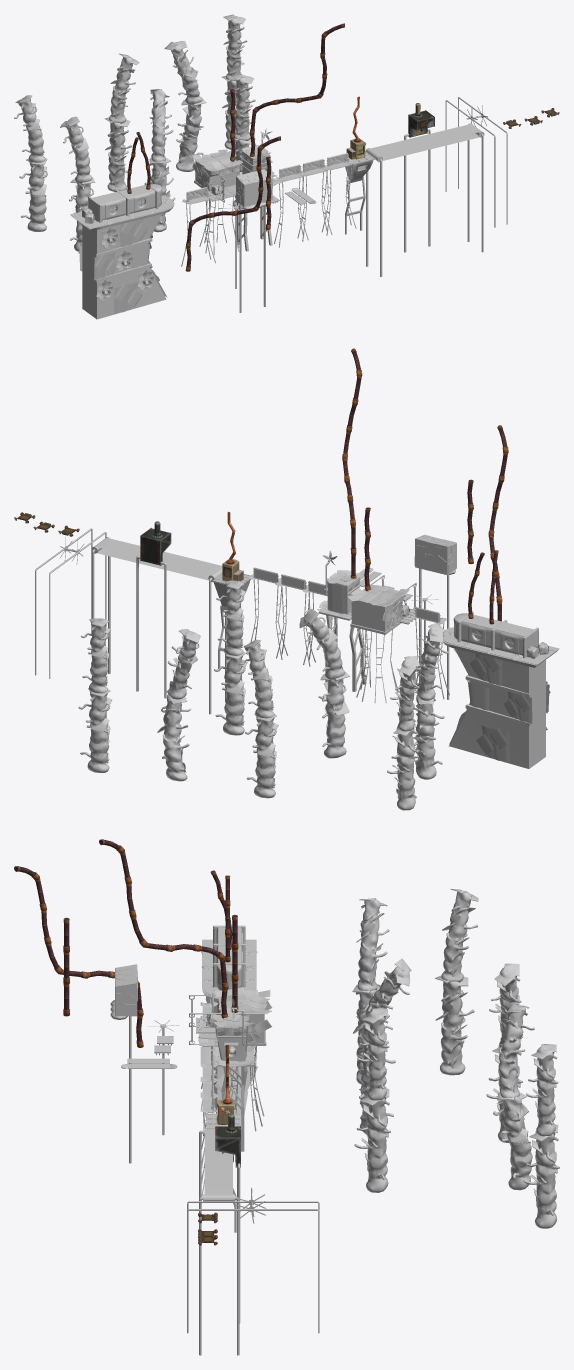
The model's file is cenarioteste1.0.fbx.
3 views of the same model, one above another, from view 1: azimuth 30°, elevation 25°; view 2: azimuth 150°, elevation 25°; view 3: azimuth 270°, elevation 25° (orthographic). The views are drawn at different scales.
Parts seen in each view (by area): view 1: sw_estrutura, Esteira, entulho_7, entulho_4, entulho_2, entulho_1, entulho_6, sw_lixo, entulho_5, plataforma_edetalhes, entulho_3, sw_esgotos (+14 smaller); view 2: sw_estrutura, Esteira, entulho_2, entulho_1, entulho_5, entulho_3, entulho_4, entulho_6, entulho_7, sw_lixo, plataforma_edetalhes, polySurface306 (+12 smaller); view 3: entulho_7, entulho_4, entulho_5, entulho_3, Esteira, entulho_6, entulho_1, atlas_01, entulho_2, caos, sw_lixo, plataforma_edetalhes (+8 smaller).
Part boxes in pixels (x1,y1,x2,y2): sw_estrutura: (78,213,167,319); Esteira: (365,123,484,276); entulho_7: (14,95,47,231); entulho_4: (164,41,206,171); entulho_2: (104,53,139,191); entulho_1: (149,89,175,232); entulho_6: (60,116,95,251); sw_lixo: (88,182,161,222); entulho_5: (221,14,247,149); plataforma_edetalhes: (70,196,174,282); entulho_3: (231,74,255,209); sw_esgotos: (96,227,154,302); sw_estrutura: (448,648,550,768); Esteira: (91,537,227,714); entulho_2: (239,639,278,798); entulho_1: (299,609,349,758); entulho_5: (78,618,111,772); entulho_3: (214,580,247,735); entulho_4: (157,629,200,781); entulho_6: (413,623,448,779); entulho_7: (387,656,419,810); sw_lixo: (453,612,538,658); plataforma_edetalhes: (442,627,559,726); polySurface306: (348,575,416,631); entulho_7: (435,889,478,1075); entulho_4: (493,1004,534,1190); entulho_5: (523,1044,559,1228); entulho_3: (354,1008,390,1192); Esteira: (199,1127,240,1355); entulho_6: (352,898,389,1084); entulho_1: (357,958,411,1134); atlas_01: (200,1007,255,1151); entulho_2: (486,963,522,1142); caos: (99,839,228,1018); sw_lixo: (212,925,245,990); plataforma_edetalhes: (201,939,257,1050).
Size of the model in its own units: 0.7728 by 0.4692 by 0.5798.
